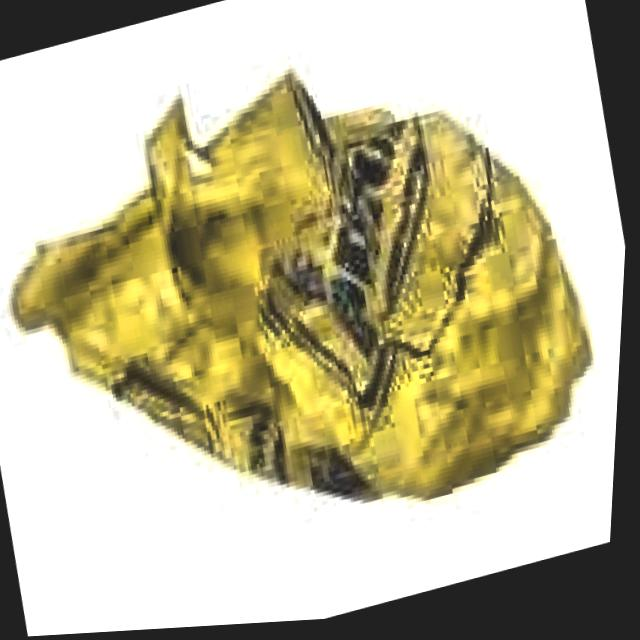Plastic: (0, 0, 639, 603)
